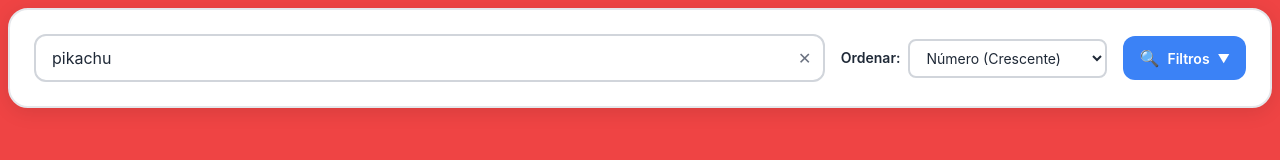
Scenario: PokemonFilters › deve limpar a busca quando botão X é clicado
Click the button named "Limpar busca" at x=805, y=58, box [793,46,817,70]
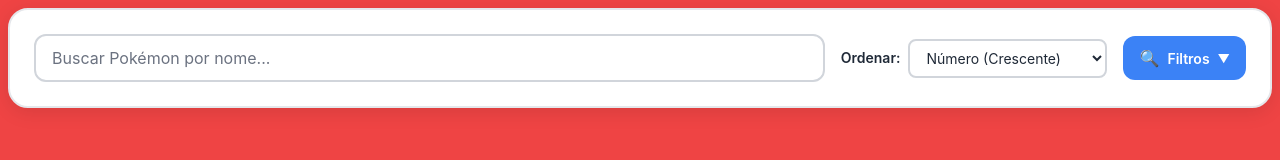
Now the field with placeholder "Buscar Pokémon por nome..." is empty, box [34,34,825,82]
